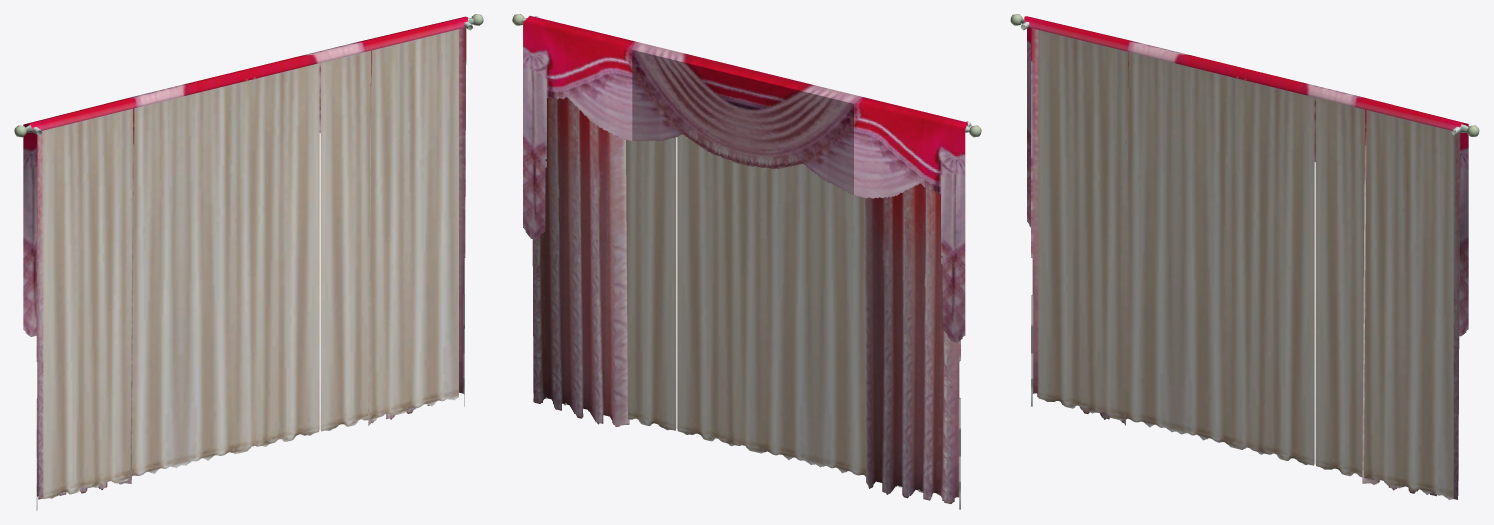
Rendered from furni_0200336.FBX.
The picture shows the model from 3 angles, left to right: view 1: azimuth 30°, elevation 25°; view 2: azimuth 150°, elevation 25°; view 3: azimuth 330°, elevation 25°; orthographic projection.
Parts seen in each view (by area): view 1: furni_0200336; view 2: furni_0200336; view 3: furni_0200336.
Part boxes in pixels (x1,y1,x2,y2): furni_0200336: (14,14,483,510); furni_0200336: (512,14,981,509); furni_0200336: (1010,14,1479,499).
Size of the model in its own units: 353 by 280 by 14.25.
2 materials, 2 textured.
